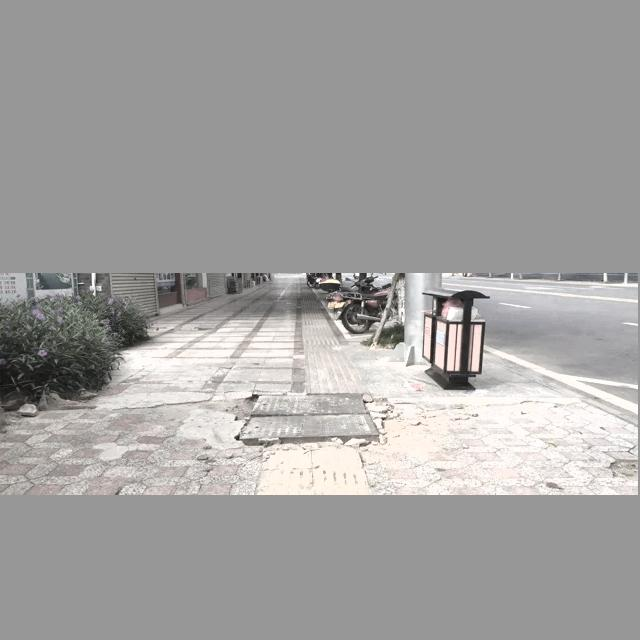circle: (210, 379, 420, 469)
